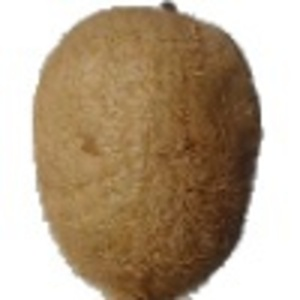kiwi: (29, 3, 264, 300)
